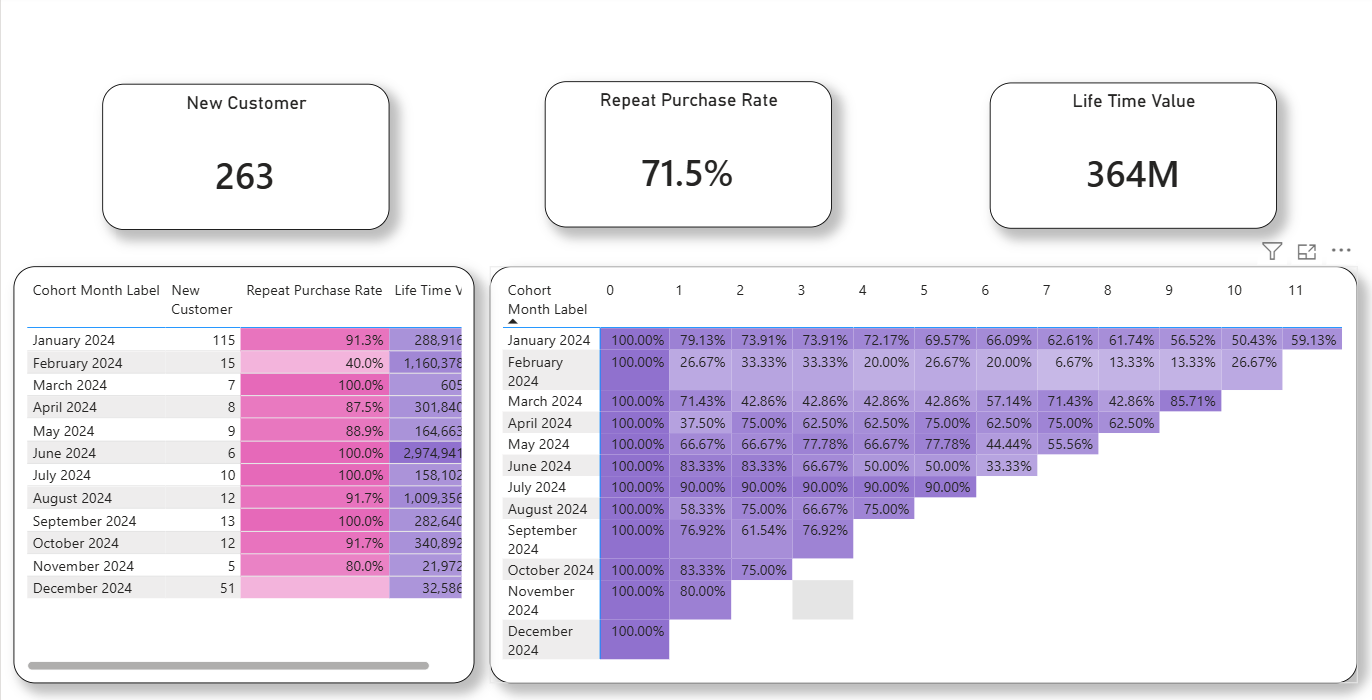

This screenshot's page, from the dashboard's own definition file:
{"tool":"powerbi","page":{"name":"Cohort","canvas":[1280,720],"ordinal":1},"visuals":[{"type":"pivotTable","fields":{"Columns":["cohort.Cohort Index"],"Values":["cohort.Retention Rate"],"Rows":["cohort.Cohort Month Label"]},"box":[454.7,252.3,825.6,388.4],"z":0},{"type":"cardVisual","title":"New Customer","fields":{"Data":["cohort.Cohort Size"]},"box":[94.2,82.6,266.8,135.7],"z":1000},{"type":"tableEx","fields":{"Values":["cohort.Cohort Month Label","cohort.Cohort Size","cohort.Repeat Purchase Rate","cohort.Life Time Value"]},"box":[0,252.3,454.7,388.4],"z":2000},{"type":"cardVisual","title":"Repeat Purchase Rate","fields":{"Data":["cohort.Repeat Purchase Rate"]},"box":[505.8,80.2,266.8,135.7],"z":3000},{"type":"cardVisual","title":"Life Time Value","fields":{"Data":["cohort.Life Time Value"]},"box":[919.8,81.4,266.8,135.7],"z":4000}]}

Visuals, with their boxes on the page's 1280x720 design canvas (x1, y1, x2, y2). These are canvas units, not pixel positions in the 1372x700 screenshot, which may show the page scaled, cropped or inside an application window:
pivotTable - cohort.Cohort Index x cohort.Retention Rate: l=455, t=252, r=1280, b=641
"New Customer" cardVisual: l=94, t=83, r=361, b=218
tableEx - cohort.Cohort Month Label x cohort.Cohort Size: l=0, t=252, r=455, b=641
"Repeat Purchase Rate" cardVisual: l=506, t=80, r=773, b=216
"Life Time Value" cardVisual: l=920, t=81, r=1187, b=217
